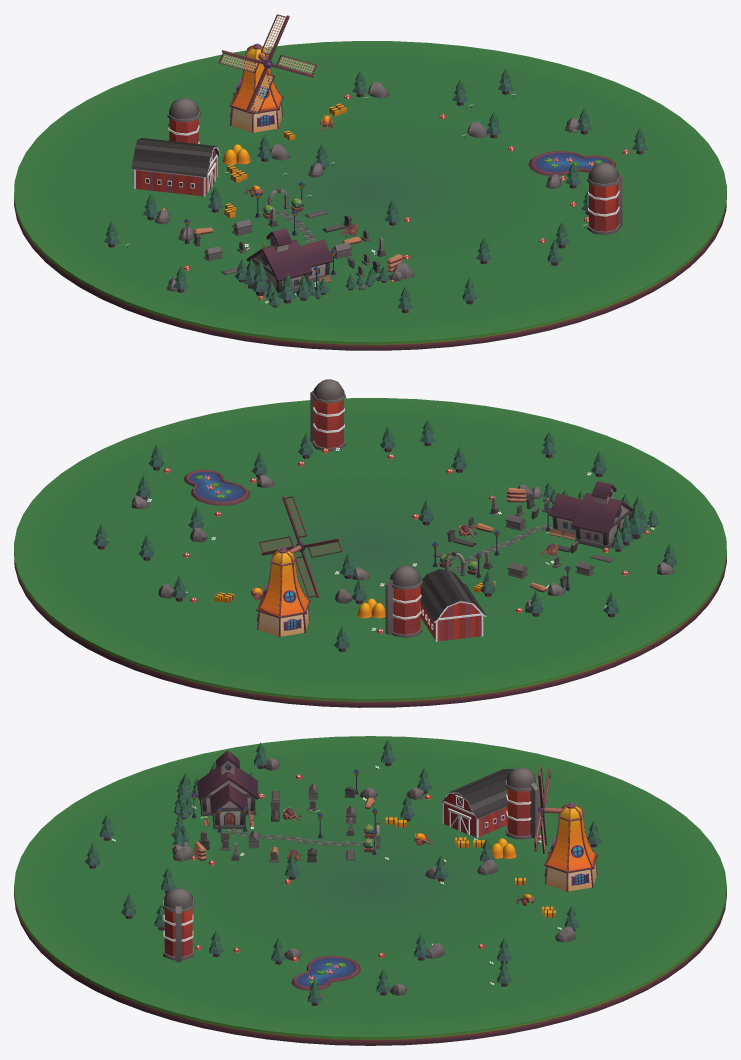
File: granja.fbx
The picture shows the model from 3 angles, top to bottom: view 1: azimuth 30°, elevation 25°; view 2: azimuth 150°, elevation 25°; view 3: azimuth 270°, elevation 25°; orthographic projection.
Parts seen in each view (by area): view 1: World.002; view 2: World.002; view 3: World.002.
Part boxes in pixels (bbox=[...]): World.002: bbox=[14, 14, 726, 350]; World.002: bbox=[14, 379, 726, 707]; World.002: bbox=[14, 736, 726, 1045].
Bounding box in the file's own units: 13328 × 2581 × 13328.
Materials: 1 (1 with a texture image).
